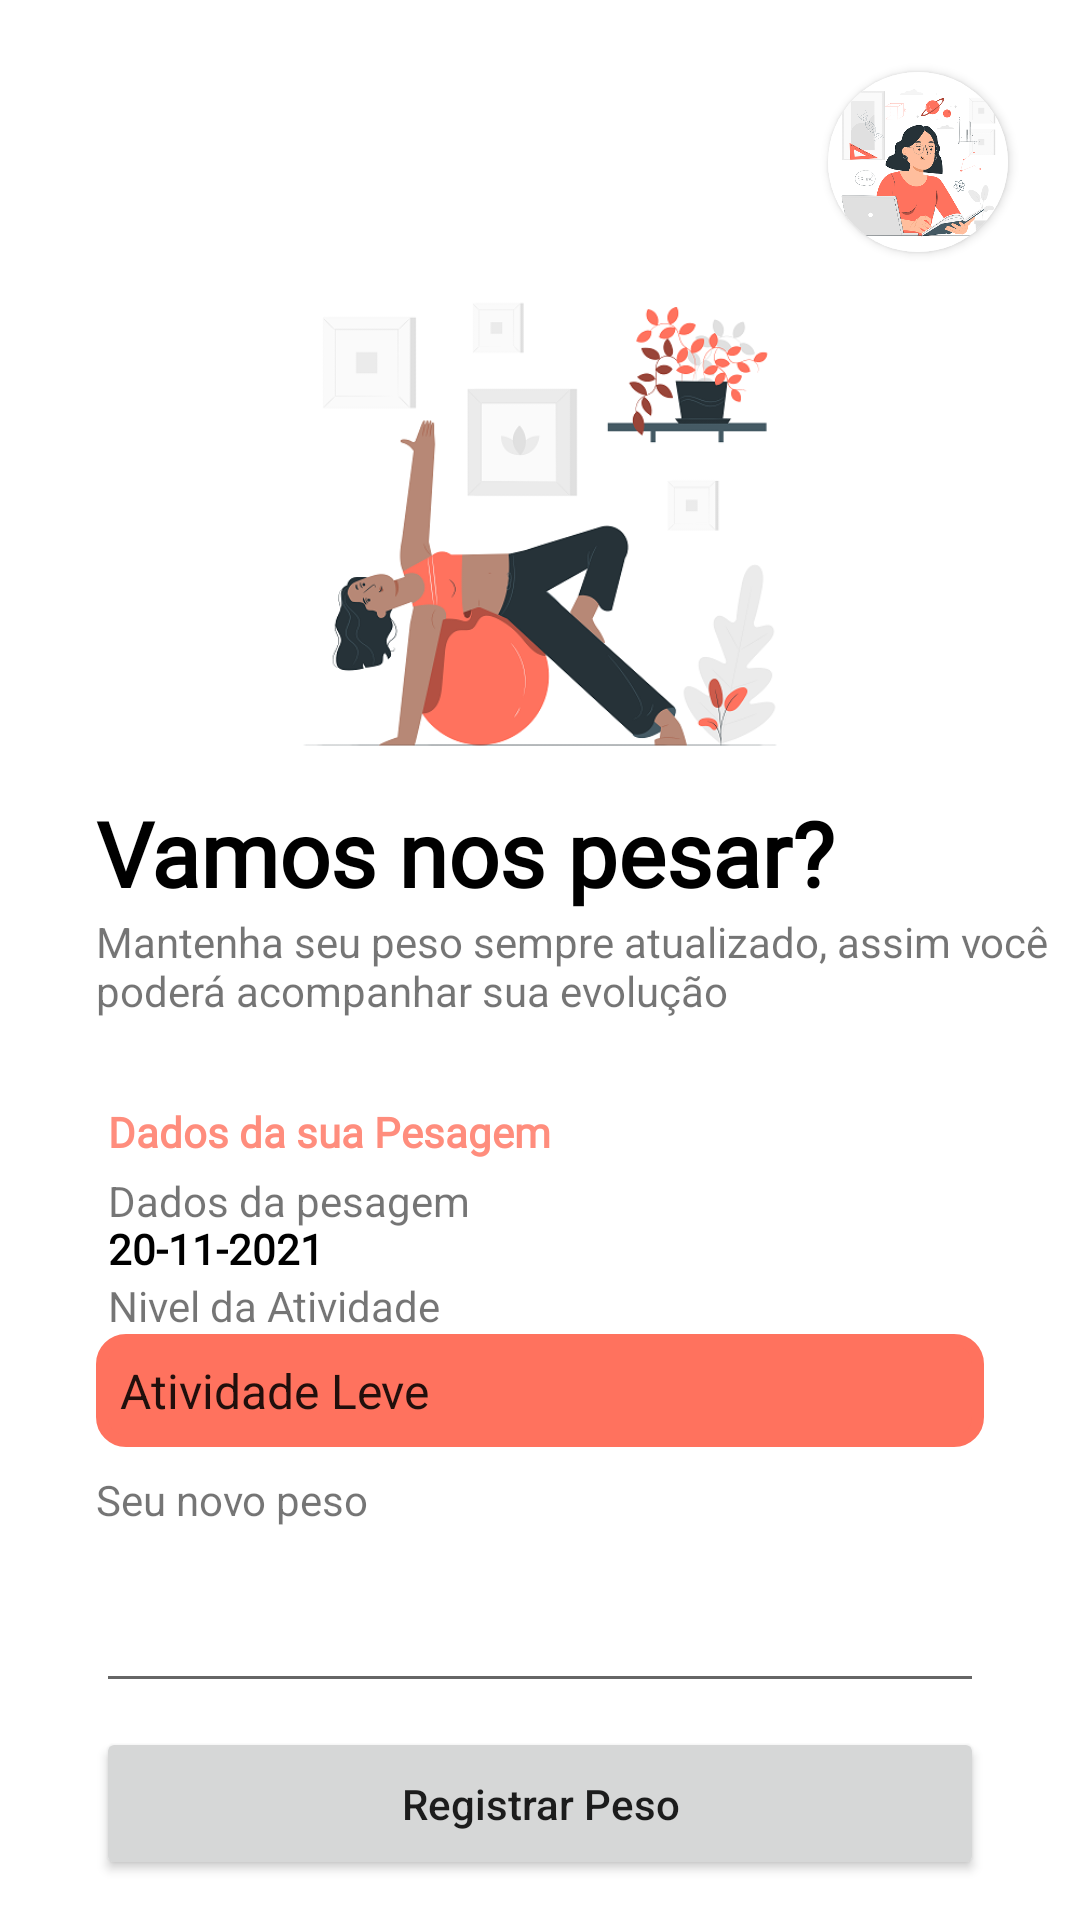

Locate icon controls on the screen. Image size 1080px x 1920px, boxes as (x1=x1, y1=y1, x2=x2, y2=y2).
students: (x1=842, y1=90, x2=1008, y2=252)
